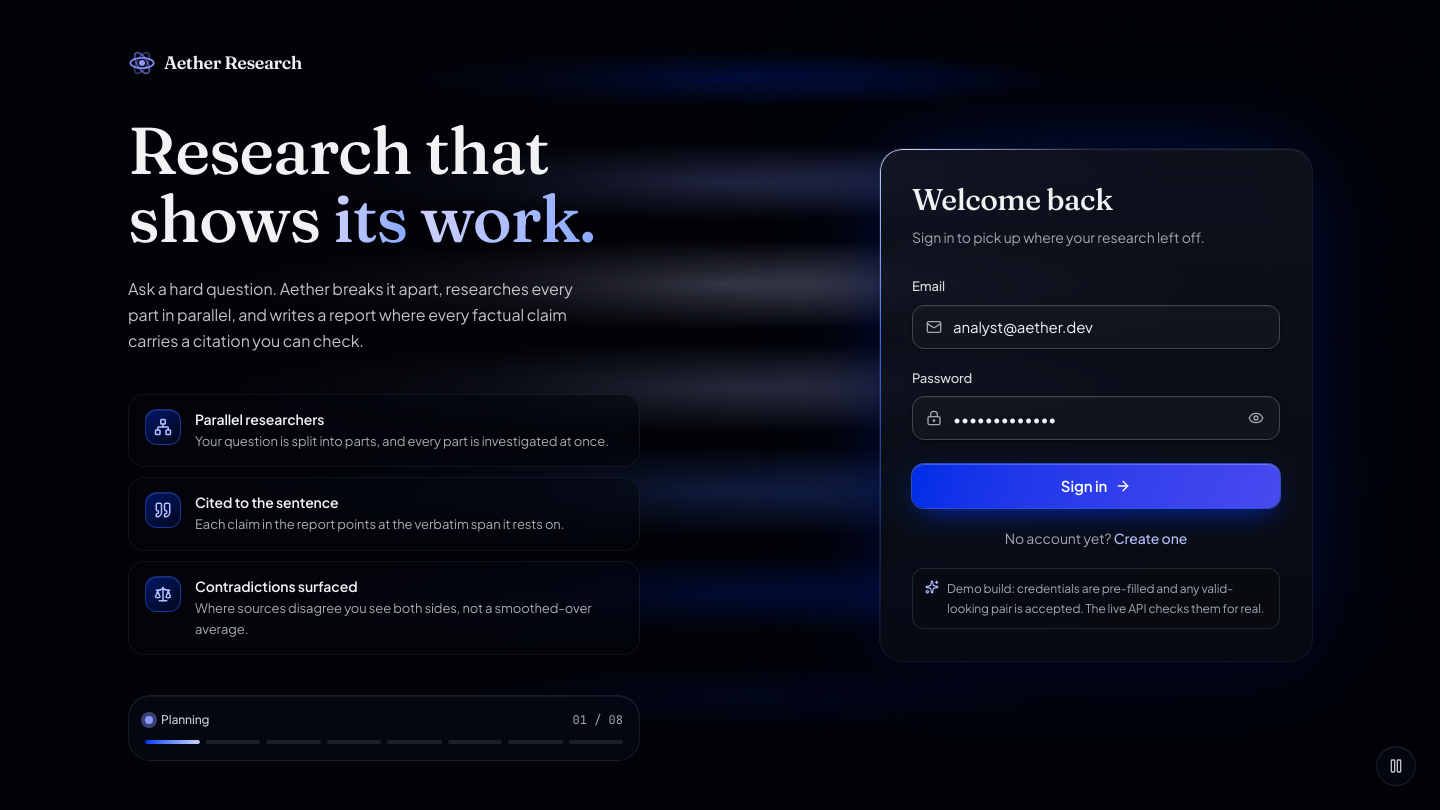
Test: LoginPage › confirms success on the button and goes to the question box
Click the button with test id "login-submit" at (1096, 486), box [912,464,1280,508]
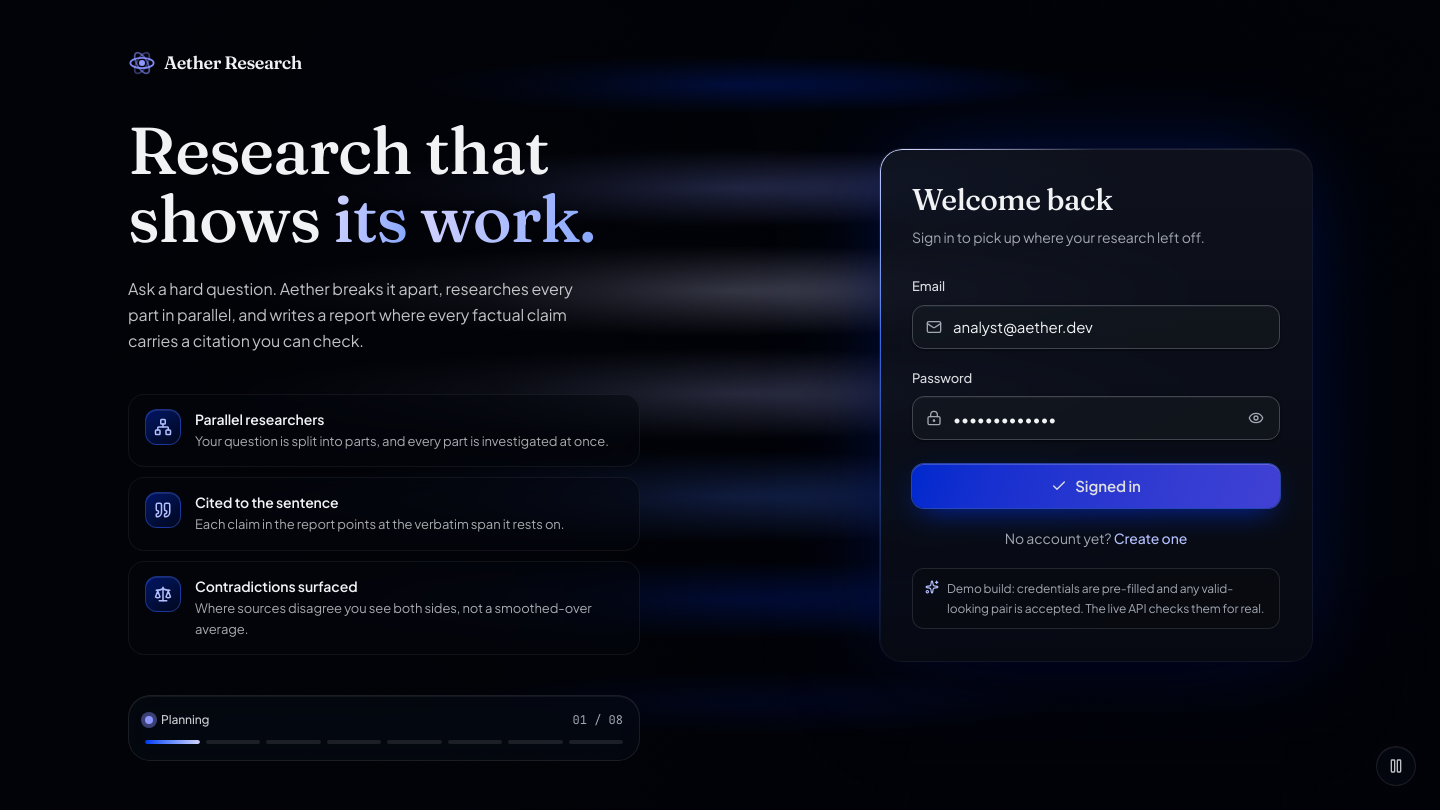
Expected: the button with test id "login-submit" reads "Signed in", [912,464,1280,508]
